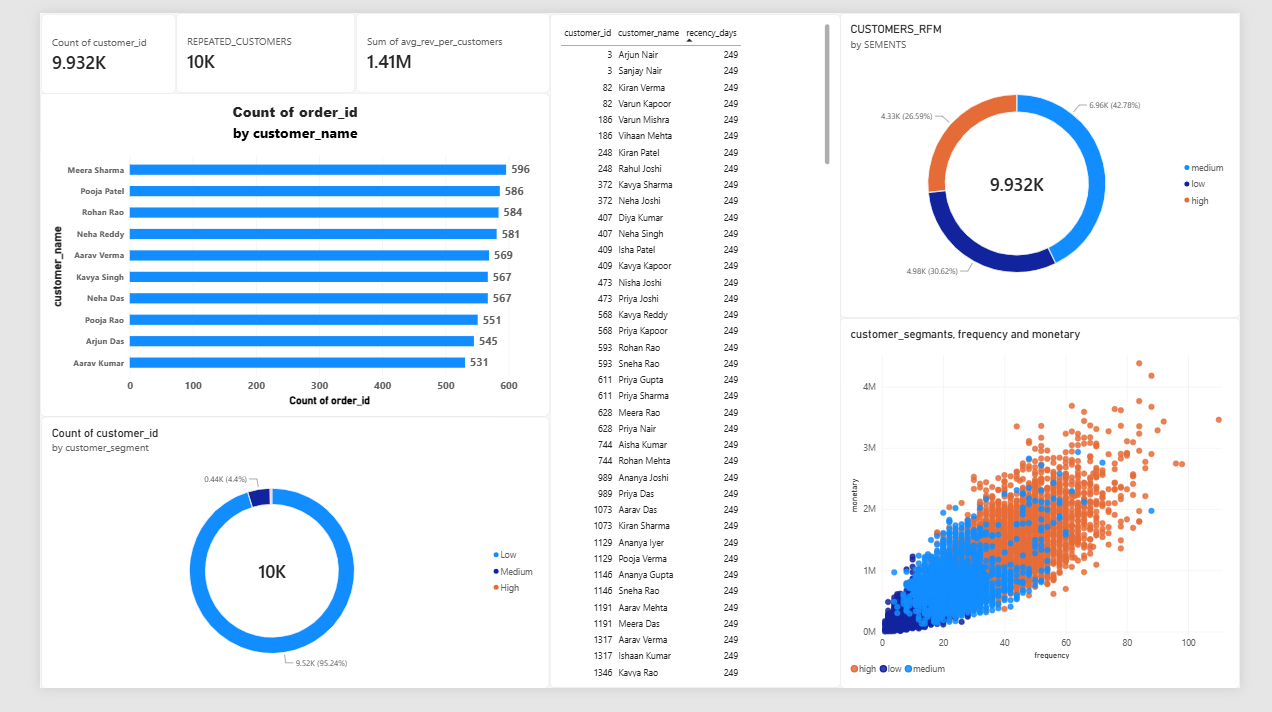

This screenshot's page, from the dashboard's own definition file:
{"tool":"powerbi","page":{"name":"customer analysis","canvas":[1920,1080],"ordinal":1},"visuals":[{"type":"barChart","fields":{"Category":["public customers.customer_name"],"Y":["CountNonNull(public orders.order_id)"]},"box":[0,127.5,815,517.5],"z":0},{"type":"donutChart","fields":{"Category":["public customers.customer_segment"],"Y":["Count(public customers.customer_id)"]},"box":[2.5,645,812.5,435],"z":1},{"type":"donutChart","fields":{"Category":["public customer_rfm.customer_segmants"],"Y":["Count(public customer_rfm.customer_id)"]},"box":[1280,0,640,487.5],"z":2},{"type":"tableEx","fields":{"Values":["public customer_rfm.customer_id","public customer_rfm.customer_name","public customer_rfm.recency_days"]},"box":[815,2.5,465,1077.5],"z":3},{"type":"cardVisual","fields":{"Data":["Count(public customer_rfm.customer_id)"]},"box":[2.5,2.5,215,127.5],"z":4},{"type":"cardVisual","fields":{"Data":["Sum(public avg_revenue_per_customer.avg_rev_per_customers)"]},"box":[505,0,310,127.5],"z":6},{"type":"scatterChart","fields":{"Series":["public customer_rfm.customer_segmants"],"X":["public customer_rfm.frequency"],"Y":["public customer_rfm.monetary"]},"box":[1280,487.5,640,592.5],"z":7},{"type":"cardVisual","fields":{"Data":["public avg_revenue_per_customer.REPEATED_CUSTOMERS"]},"box":[218.3,0,286.7,128.3],"z":8}]}

Visuals, with their boxes in screenshot pixels (x1, y1, x2, y2), scaled from the page's 1920x1080 canvas onto the 1272x712 screenshot:
barChart - public customers.customer_name x CountNonNull(public orders.order_id): pyautogui.locateOnScreen(0, 84, 540, 425)
donutChart - public customers.customer_segment x Count(public customers.customer_id): pyautogui.locateOnScreen(2, 425, 540, 711)
donutChart - public customer_rfm.customer_segmants x Count(public customer_rfm.customer_id): pyautogui.locateOnScreen(848, 0, 1271, 321)
tableEx - public customer_rfm.customer_id x public customer_rfm.customer_name: pyautogui.locateOnScreen(540, 2, 848, 711)
cardVisual - Count(public customer_rfm.customer_id): pyautogui.locateOnScreen(2, 2, 144, 86)
cardVisual - Sum(public avg_revenue_per_customer.avg_rev_per_customers): pyautogui.locateOnScreen(335, 0, 540, 84)
scatterChart - public customer_rfm.customer_segmants x public customer_rfm.frequency: pyautogui.locateOnScreen(848, 321, 1271, 711)
cardVisual - public avg_revenue_per_customer.REPEATED_CUSTOMERS: pyautogui.locateOnScreen(145, 0, 335, 85)
